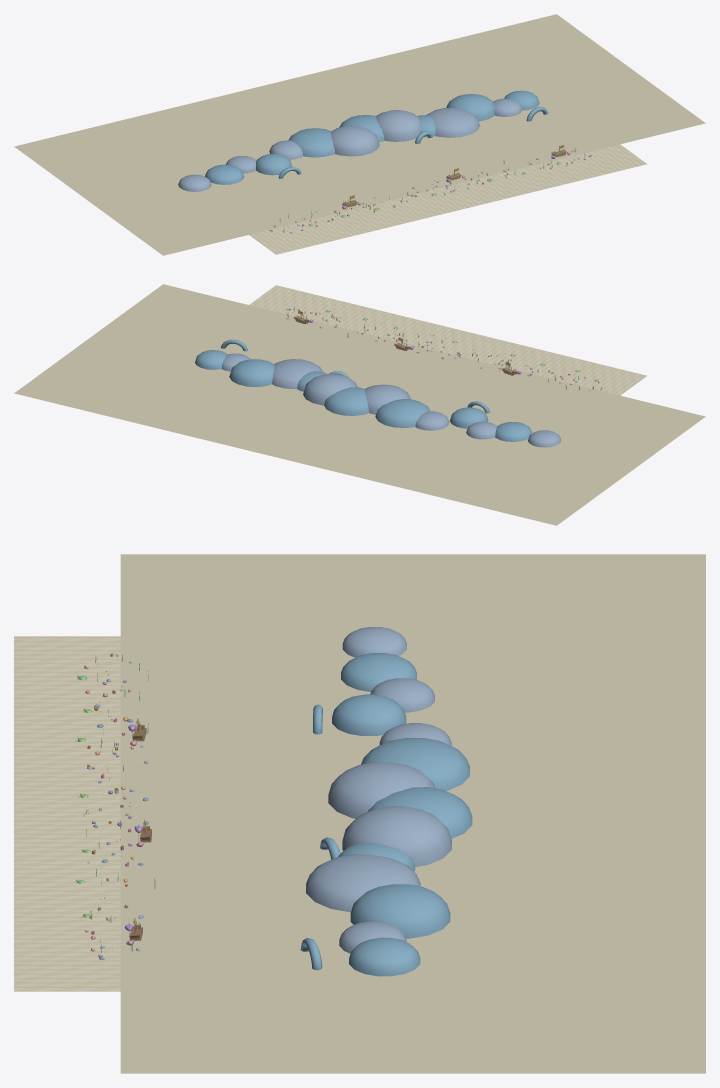
Rendered from reef-far.glb.
3 renders of one model, top to bottom at view 1: azimuth 30°, elevation 25°; view 2: azimuth 150°, elevation 25°; view 3: azimuth 270°, elevation 25°, orthographic. The views are drawn at different scales.
Visible parts, largest first — view 1: reef-far; view 2: reef-far; view 3: reef-far.
Boxes of the visible parts, <box> form: reef-far: <box>14,14,705,255</box>; reef-far: <box>14,284,705,525</box>; reef-far: <box>14,554,705,1073</box>.
Bounding box in the file's own units: 1900 × 91.72 × 1070.
